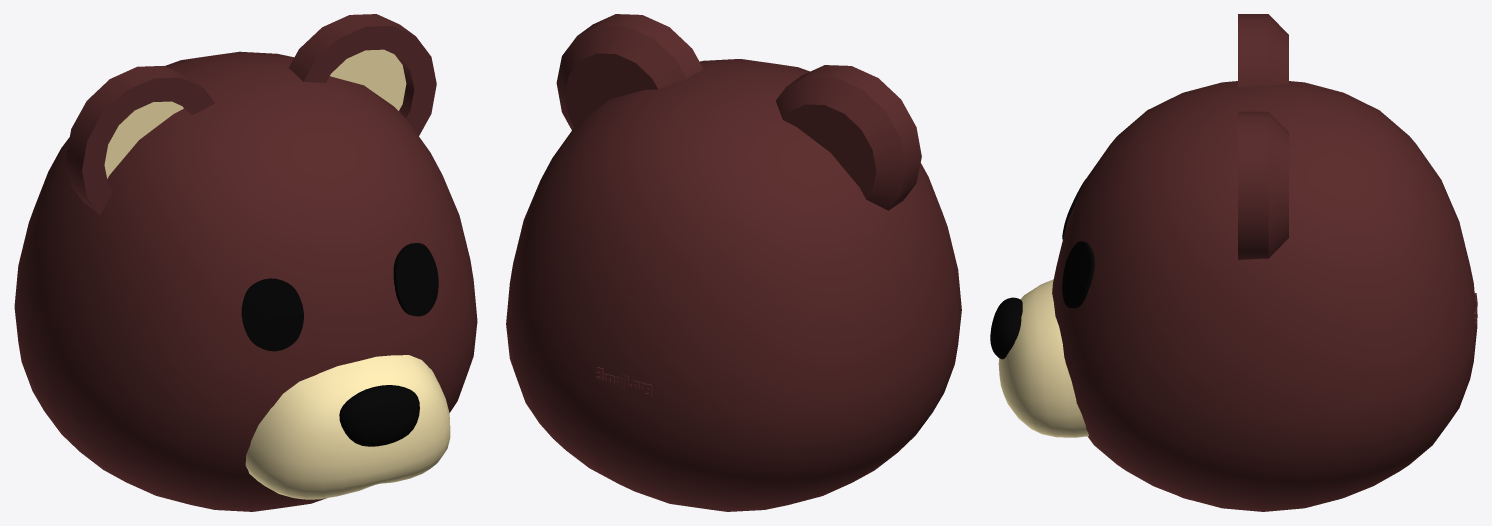
The model's file is bear.glb.
The picture shows the model from 3 angles, left to right: view 1: azimuth 30°, elevation 25°; view 2: azimuth 150°, elevation 25°; view 3: azimuth 270°, elevation 25°; orthographic projection. The views are drawn at different scales.
Parts seen in each view (by area): view 1: Cube.6252, Cylinder.363, Cube.6254, Circle.1925, Cube.6255; view 2: Cube.6252, Cylinder.363; view 3: Cube.6252, Cylinder.363, Cube.6254, Circle.1925, Cube.6255.
Boxes of the visible parts, left/top/right/bottom form: Cube.6252: left=14, top=51, right=477, bottom=511; Cylinder.363: left=66, top=14, right=436, bottom=214; Cube.6254: left=245, top=355, right=450, bottom=499; Circle.1925: left=241, top=243, right=438, bottom=351; Cube.6255: left=339, top=385, right=419, bottom=446; Cube.6252: left=506, top=59, right=961, bottom=511; Cylinder.363: left=556, top=14, right=921, bottom=210; Cube.6252: left=1052, top=81, right=1477, bottom=511; Cylinder.363: left=1238, top=14, right=1288, bottom=259; Cube.6254: left=998, top=279, right=1088, bottom=437; Circle.1925: left=1062, top=179, right=1094, bottom=308; Cube.6255: left=990, top=297, right=1022, bottom=359.
Bounding box in the file's own units: 2.19 × 2.37 × 2.5.
Materials: 1 (1 with a texture image).
